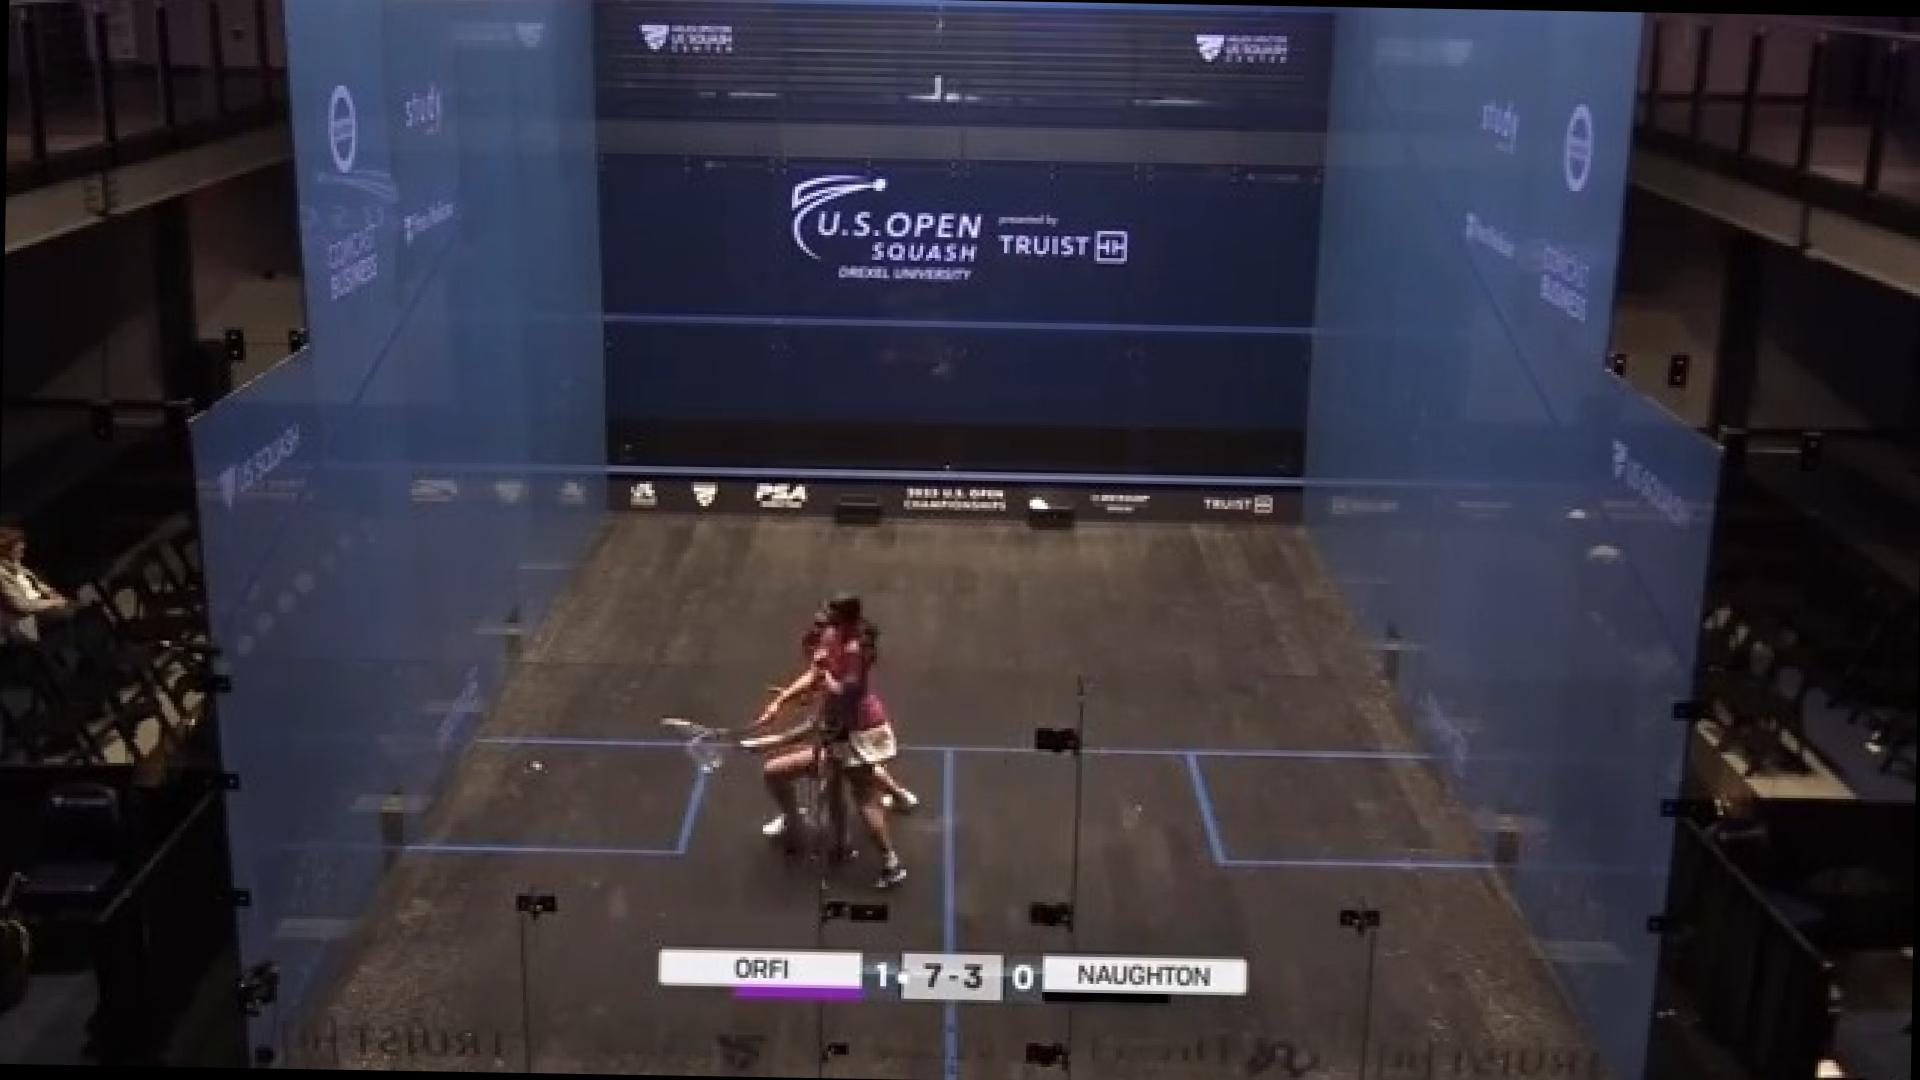Squash-Ball: (524, 749, 553, 779)
